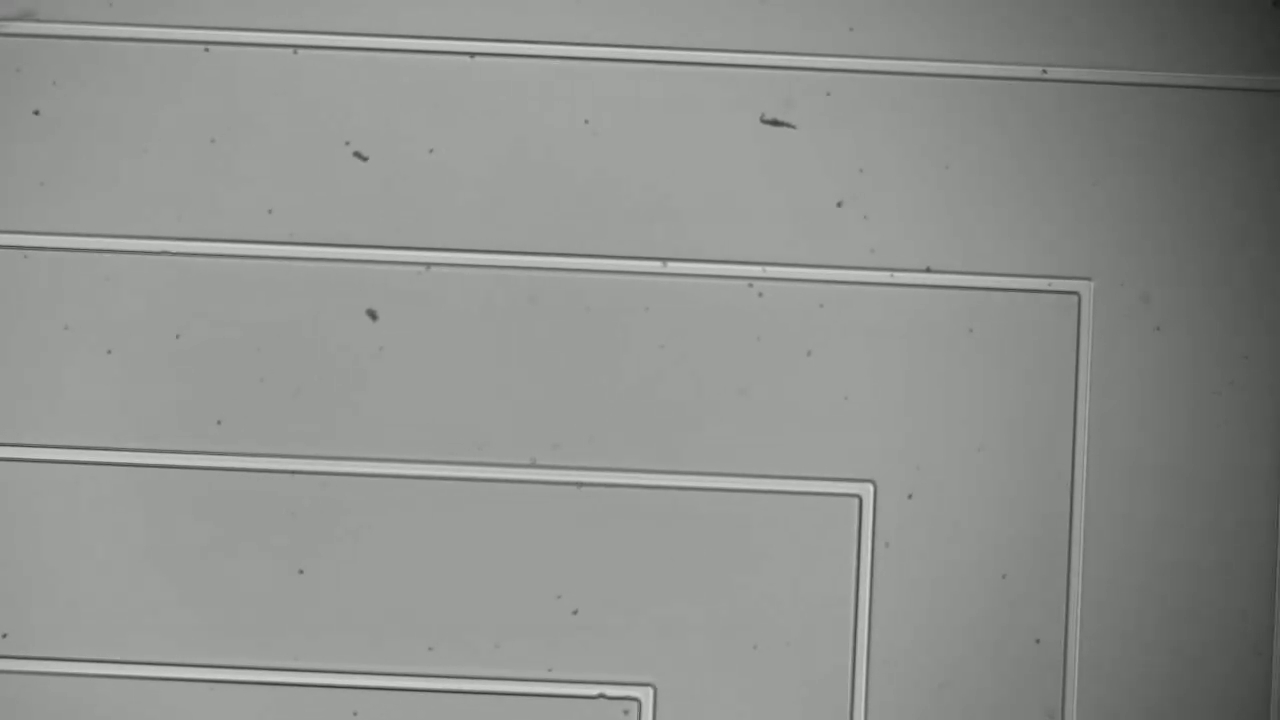edge_bite: (582, 669, 618, 705)
